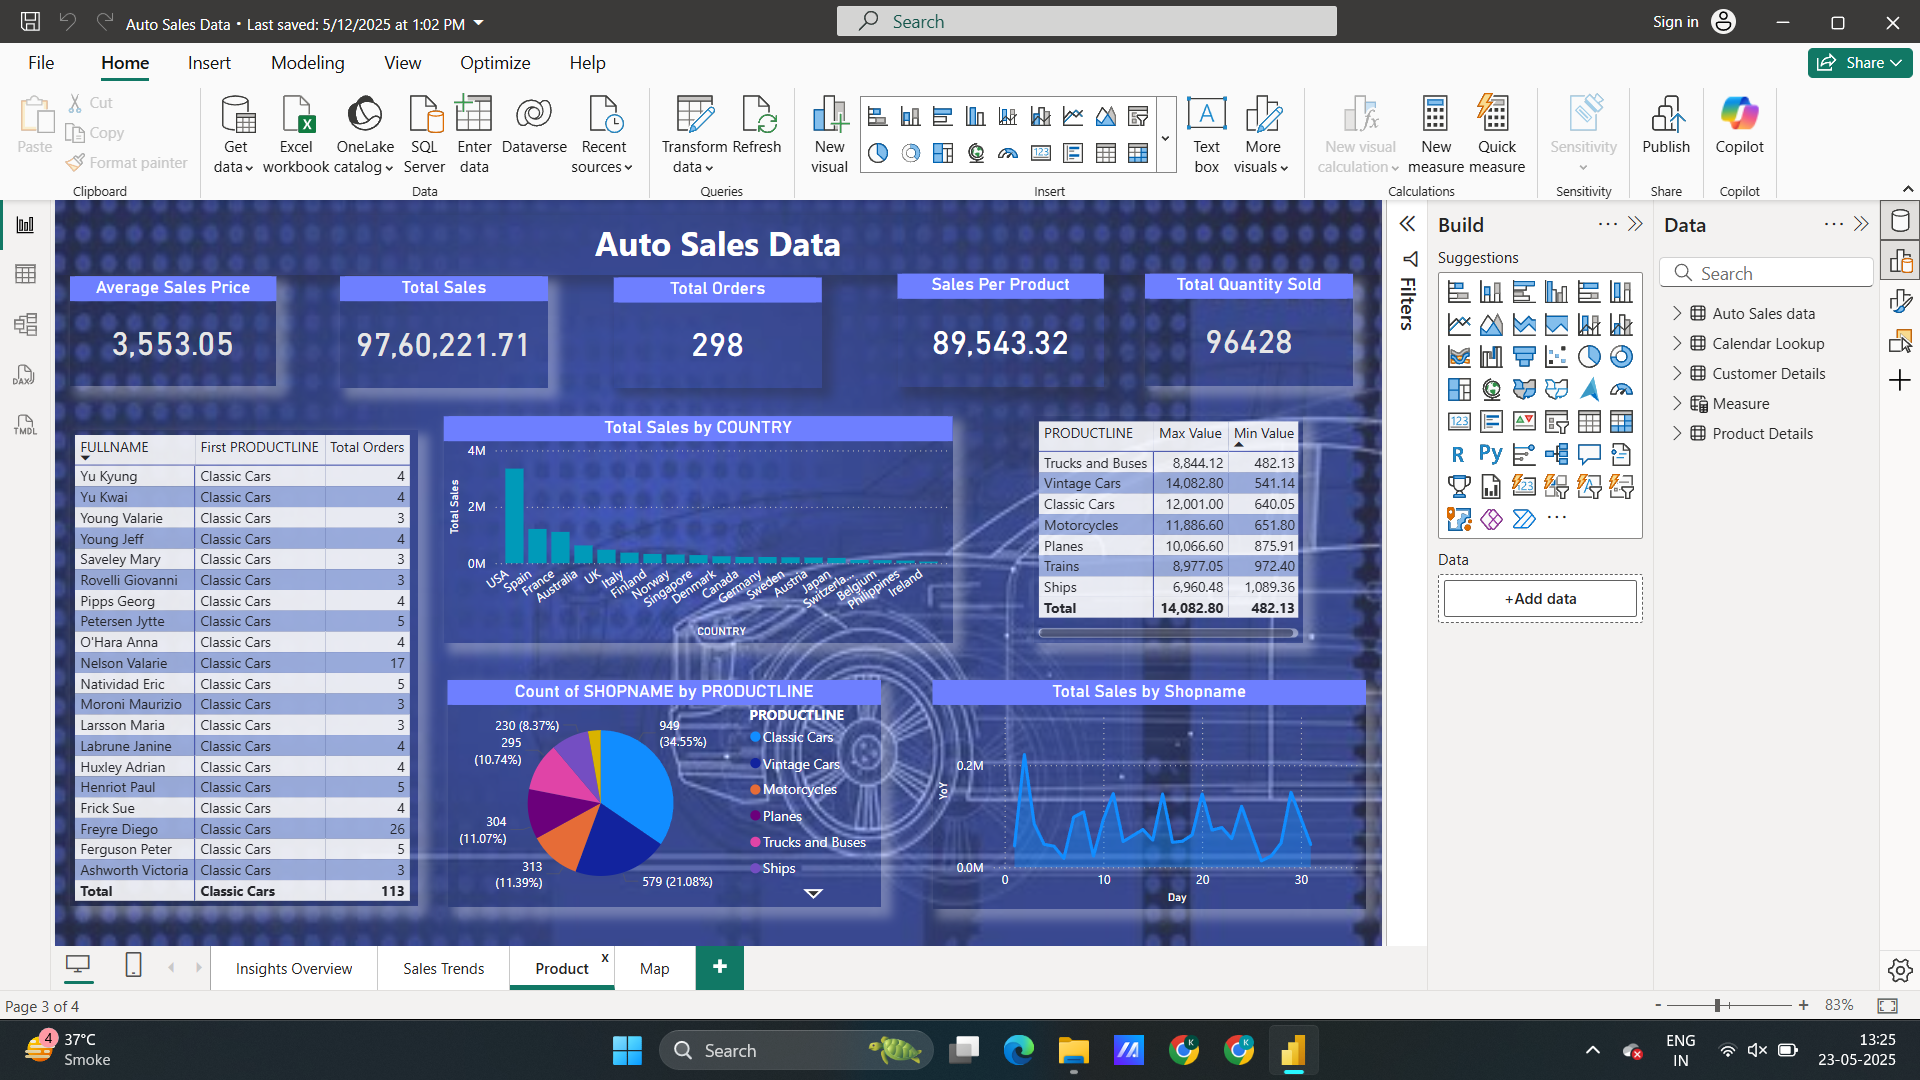

This screenshot's page, from the dashboard's own definition file:
{"tool":"powerbi","page":{"name":"Product","canvas":[1280,720],"ordinal":2},"visuals":[{"type":"textbox","box":[0,14.4,1279.7,57.7],"z":0},{"type":"card","title":"Total Sales","fields":{"Values":["Measure.Total Sales"]},"box":[275.6,73.6,200.5,108.2],"z":1000},{"type":"card","title":"Total Orders","fields":{"Values":["Measure.Total Orders"]},"box":[539,75.4,200.5,106.7],"z":2000},{"type":"card","title":"Total Quantity Sold","fields":{"Values":["Measure.Total Quantity Sold"]},"box":[1052.4,71.1,200.5,108.1],"z":3000},{"type":"card","title":"Sales Per Product ","fields":{"Values":["Measure.Sales Per Product"]},"box":[813.5,71.1,199.1,109.5],"z":4000},{"type":"card","title":"Average Sales Price","fields":{"Values":["Measure.Average Sale Price"]},"box":[14.4,73.6,199.1,106.8],"z":5000},{"type":"areaChart","title":"Total Sales by Shopname","fields":{"Y":["Measure.YoY"],"Category":["Calendar Lookup.ORDERDATE.Variation.Date Hierarchy.Year","Calendar Lookup.ORDERDATE.Variation.Date Hierarchy.Quarter","Calendar Lookup.ORDERDATE.Variation.Date Hierarchy.Month","Calendar Lookup.ORDERDATE.Variation.Date Hierarchy.Day"]},"box":[846.9,463.1,418.4,220.7],"z":6000},{"type":"pivotTable","fields":{"Rows":["Customer Details.FULLNAME"],"Values":["Product Details.PRODUCTLINE","Measure.Total Orders"]},"box":[14.2,222.5,336.4,459.2],"z":7000},{"type":"pivotTable","fields":{"Rows":["Product Details.PRODUCTLINE"],"Values":["Measure.Max Value","Measure.Min Value"]},"box":[945.1,208.2,259.8,218.9],"z":8000},{"type":"pieChart","fields":{"Category":["Product Details.PRODUCTLINE"],"Y":["Auto Sales data.SHOPNAME"]},"box":[379.1,462.7,418.2,218.9],"z":9000},{"type":"columnChart","fields":{"Category":["Customer Details.COUNTRY"],"Y":["Measure.Total Sales"]},"box":[375.5,208.2,491.2,218.9],"z":10000}]}

Visuals, with their boxes on the page's 1280x720 design canvas (x1, y1, x2, y2). These are canvas units, not pixel positions in the 1920x1080 screenshot, which may show the page scaled, cropped or inside an application window:
textbox: region(0, 14, 1280, 72)
"Total Sales" card: region(276, 74, 476, 182)
"Total Orders" card: region(539, 75, 740, 182)
"Total Quantity Sold" card: region(1052, 71, 1253, 179)
"Sales Per Product " card: region(814, 71, 1013, 181)
"Average Sales Price" card: region(14, 74, 214, 180)
"Total Sales by Shopname" areaChart: region(847, 463, 1265, 684)
pivotTable - Customer Details.FULLNAME x Product Details.PRODUCTLINE: region(14, 222, 351, 682)
pivotTable - Product Details.PRODUCTLINE x Measure.Max Value: region(945, 208, 1205, 427)
pieChart - Product Details.PRODUCTLINE x Auto Sales data.SHOPNAME: region(379, 463, 797, 682)
columnChart - Customer Details.COUNTRY x Measure.Total Sales: region(376, 208, 867, 427)
